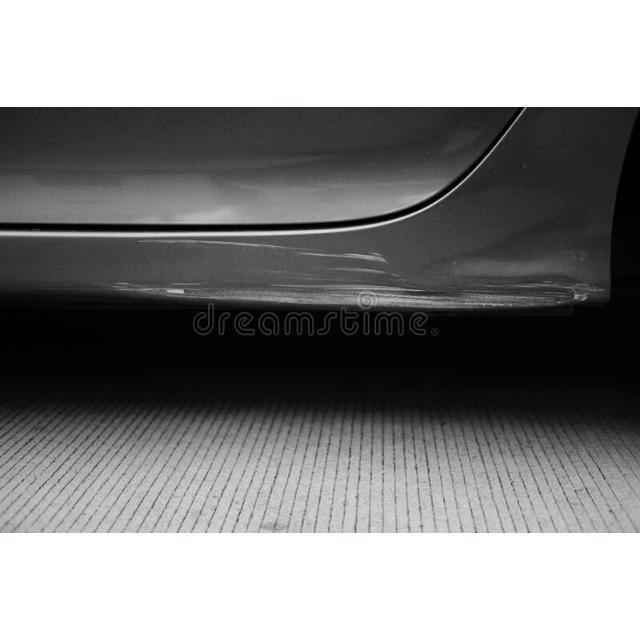Runningboard-Damage: (0, 218, 624, 325)
